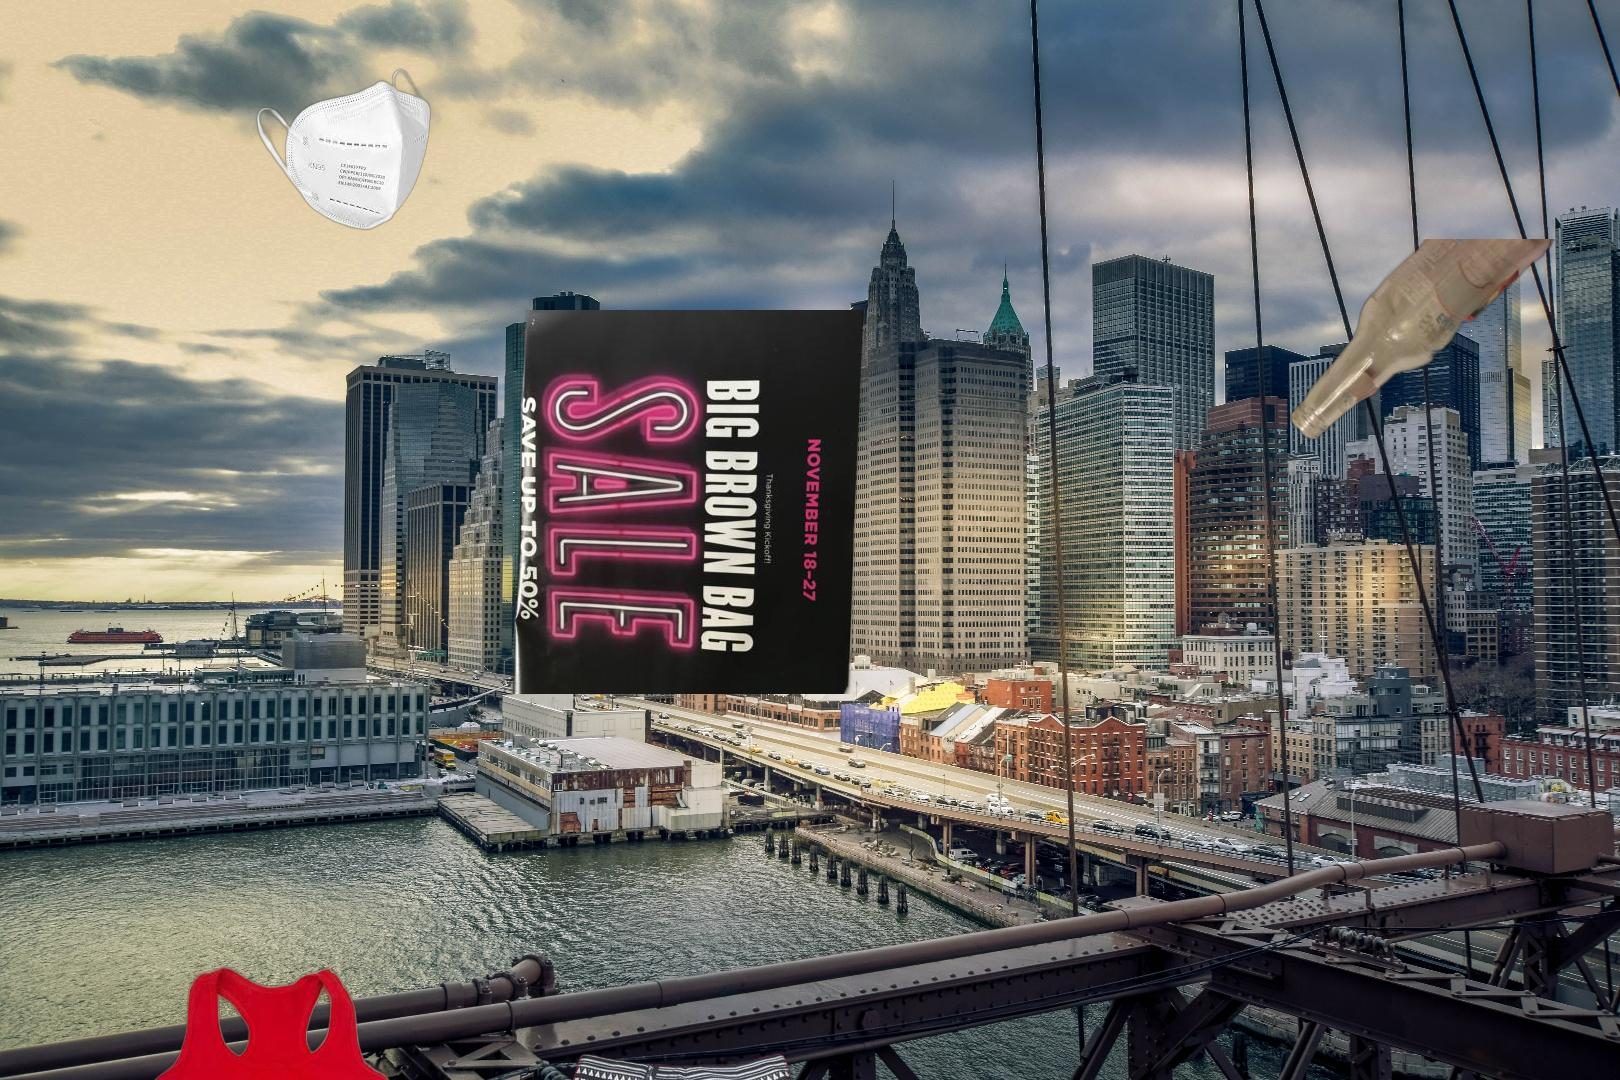clothes: (117, 963, 435, 1080), (523, 1049, 855, 1080)
glass: (1286, 239, 1559, 444)
paper: (507, 310, 870, 694)
plastic-bag: (1458, 1040, 1620, 1080)
trash: (254, 67, 433, 231)
